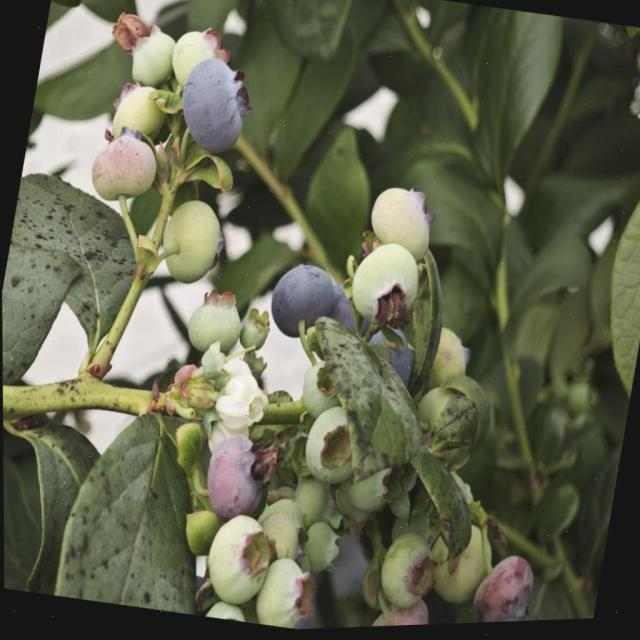RipeBlueBerry: (172, 53, 258, 161), (264, 258, 338, 348)
Semi-RipeBlueBerry: (199, 436, 274, 524), (466, 551, 541, 626), (365, 598, 434, 630)
UnripeBlueBerry: (200, 511, 280, 612), (345, 240, 425, 336), (156, 199, 232, 290), (87, 123, 160, 209)
